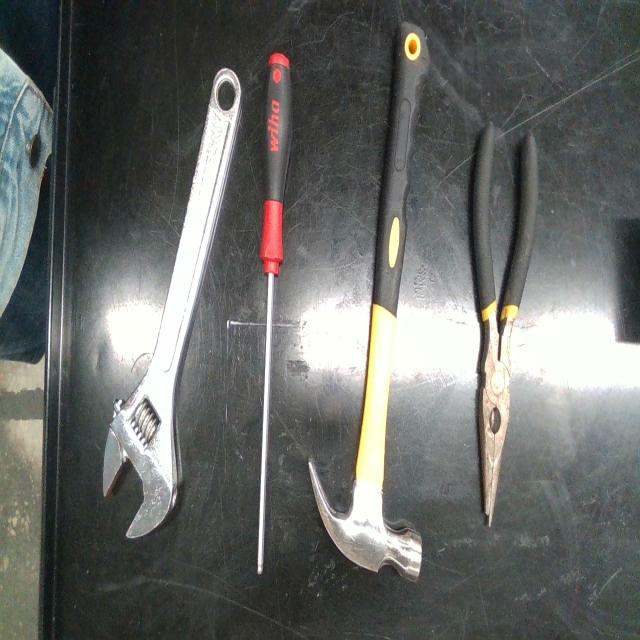Screwdriver: (258, 53, 292, 572)
